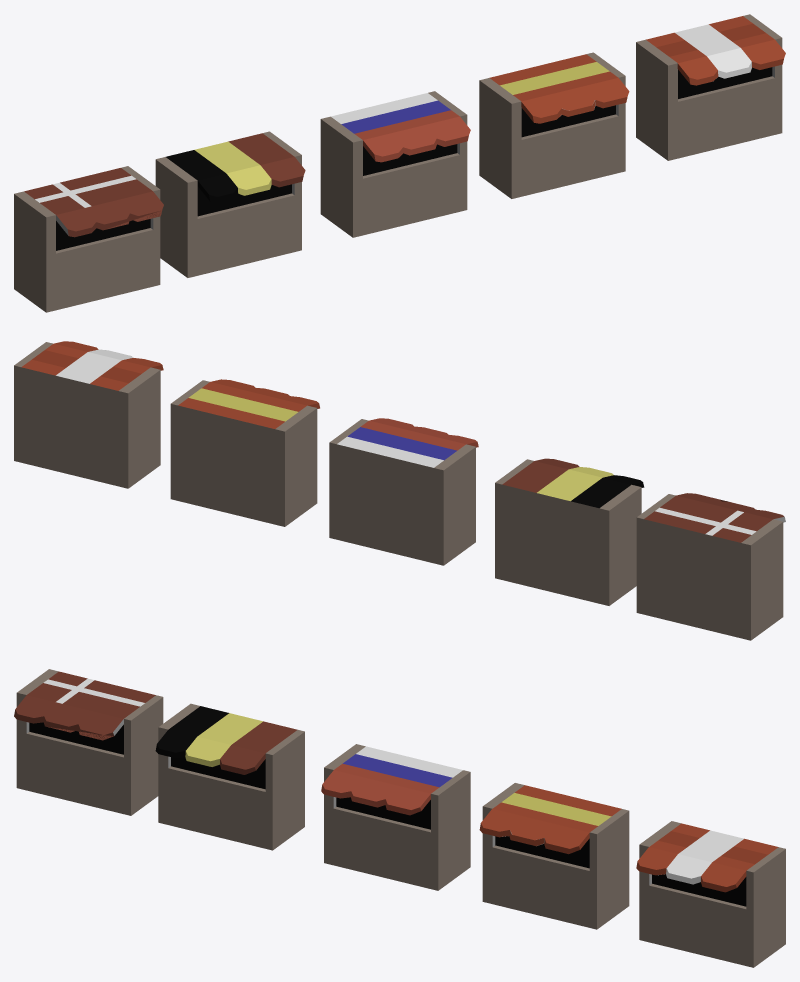
The model's file is NewStandsWithShop.fbx.
3 renders of one model, top to bottom at view 1: azimuth 30°, elevation 25°; view 2: azimuth 150°, elevation 25°; view 3: azimuth 330°, elevation 25°, orthographic.
Parts seen in each view (by area): view 1: pCube5, pCube6, pCube4, pCube7, pCube2; view 2: pCube4, pCube6, pCube7, pCube5, pCube2; view 3: pCube6, pCube5, pCube7, pCube2, pCube4.
Part boxes in pixels (x1=…): pCube5: x1=320, y1=91, x2=470, y2=237; pCube6: x1=479, y1=52, x2=629, y2=198; pCube4: x1=14, y1=166, x2=163, y2=312; pCube7: x1=636, y1=14, x2=785, y2=160; pCube2: x1=155, y1=131, x2=305, y2=277; pCube4: x1=636, y1=493, x2=785, y2=640; pCube6: x1=170, y1=379, x2=319, y2=526; pCube7: x1=14, y1=341, x2=163, y2=488; pCube5: x1=329, y1=418, x2=478, y2=565; pCube2: x1=495, y1=458, x2=644, y2=605; pCube6: x1=479, y1=783, x2=629, y2=929; pCube5: x1=321, y1=744, x2=470, y2=890; pCube7: x1=636, y1=821, x2=785, y2=967; pCube2: x1=155, y1=703, x2=304, y2=850; pCube4: x1=14, y1=669, x2=163, y2=815.
Size of the model in its own units: 108 by 13.42 by 11.88.
